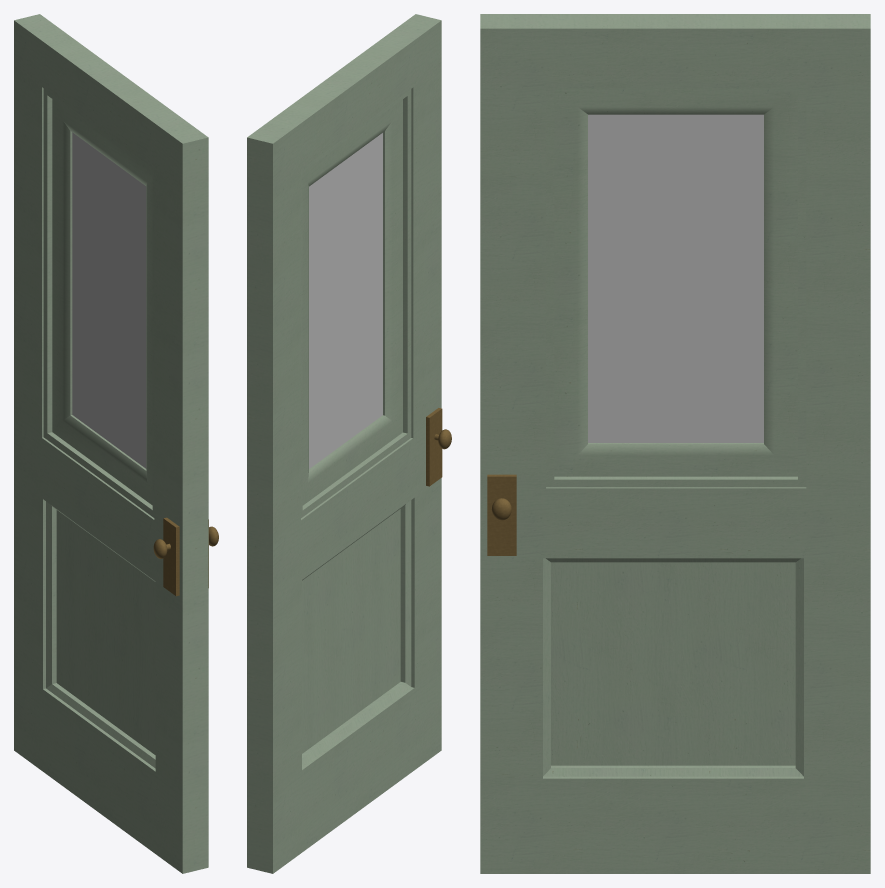
Rendered from SM_WD25_DOOR.fbx.
The picture shows the model from 3 angles, left to right: view 1: azimuth 30°, elevation 25°; view 2: azimuth 150°, elevation 25°; view 3: azimuth 270°, elevation 25°; orthographic projection. The views are drawn at different scales.
Parts seen in each view (by area): view 1: SM_WD25_DOOR; view 2: SM_WD25_DOOR; view 3: SM_WD25_DOOR.
Boxes of the visible parts, <box> form: SM_WD25_DOOR: <box>14,14,218,873</box>; SM_WD25_DOOR: <box>247,14,451,873</box>; SM_WD25_DOOR: <box>480,14,870,873</box>.
Bounding box in the file's own units: 21.78 × 102 × 244.
3 materials, 2 textured.
